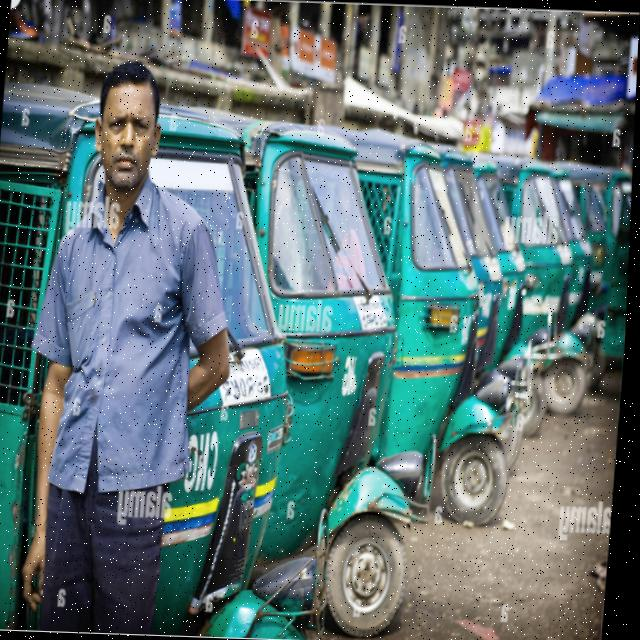cng: (0, 123, 234, 633), (193, 138, 375, 580), (349, 132, 477, 524)
